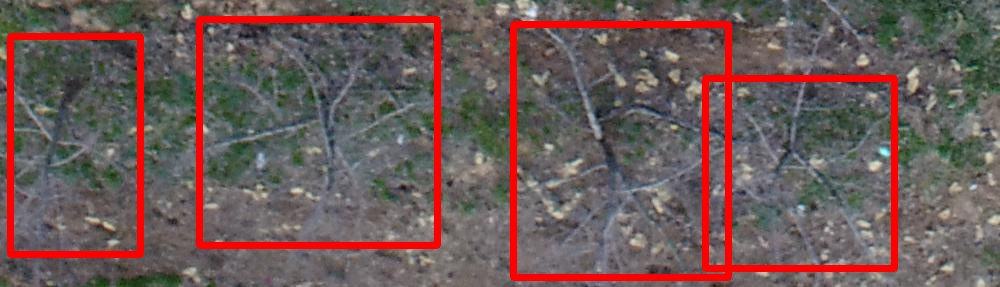apple: (513, 24, 728, 277), (199, 19, 437, 245), (705, 78, 894, 268), (10, 36, 140, 254)
